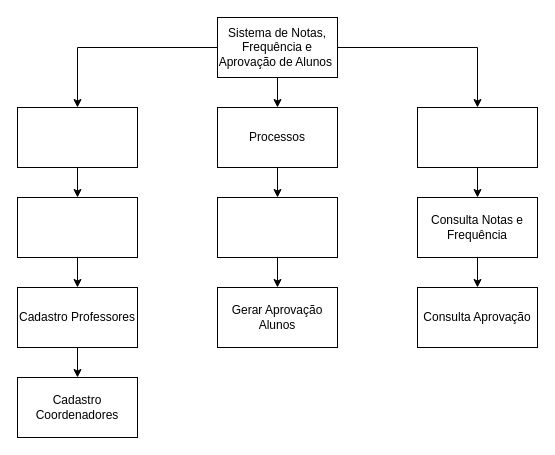
The diagram is 555 pixels wide and 455 high, and some of its shapes have lost their labels. The shapes that lost their labels are listed below. From the top down, each one's centre as x and y in pixels, then its label:
point (77, 137): Cadastros
point (477, 137): Consultas e Relatórios
point (77, 227): Cadastro Alunos
point (277, 227): Lançar Notas e Frequência Alunos
